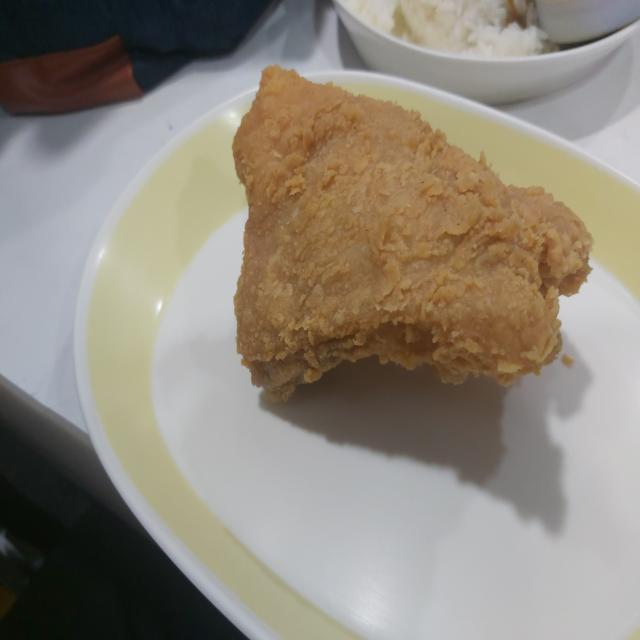Chicken -Fried Chicken-: (203, 45, 601, 422)
